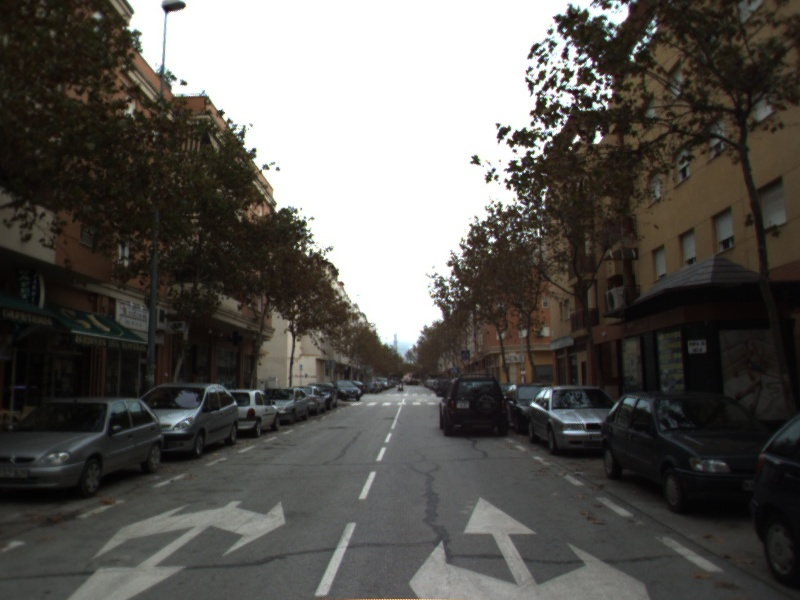STRAIGHT_LEFT_RIGHT: (406, 493, 652, 600)
